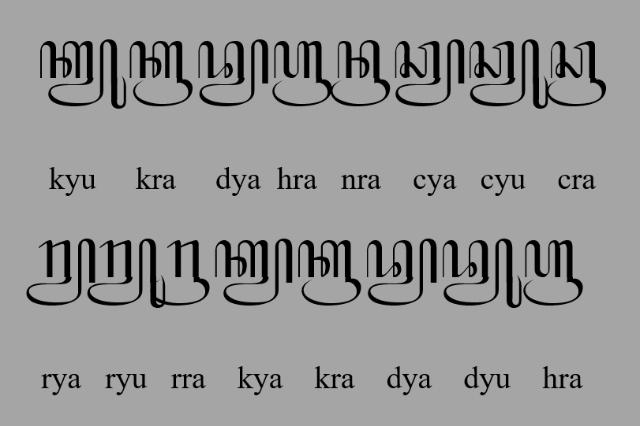cr: (547, 40, 607, 108)
cy: (394, 38, 466, 108)
cyu: (468, 39, 548, 109)
dy: (197, 39, 269, 107), (366, 238, 438, 306)
dyu: (442, 238, 522, 310)
hr: (272, 39, 332, 107), (524, 239, 582, 307)
kr: (297, 239, 361, 307), (129, 41, 193, 108)
ky: (214, 238, 294, 308)
kyu: (40, 39, 126, 110)
nr: (331, 40, 391, 106)
rr: (150, 240, 210, 306)
ry: (26, 239, 96, 307)
ryu: (88, 239, 166, 309)
